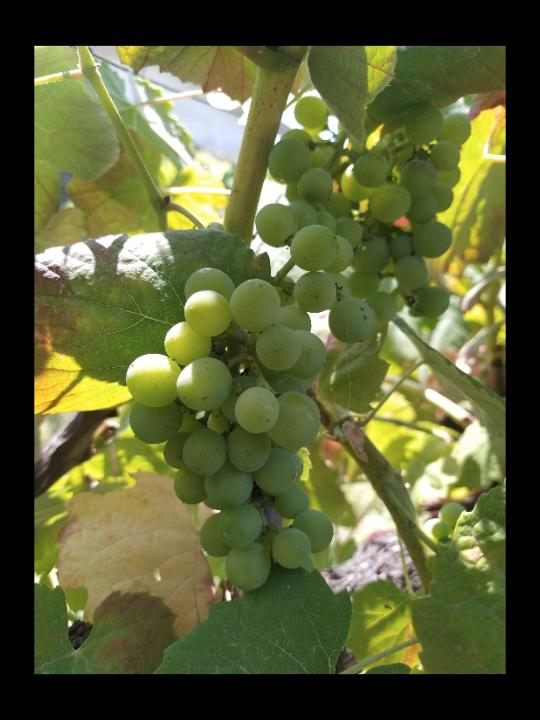grape: (121, 265, 377, 593)
